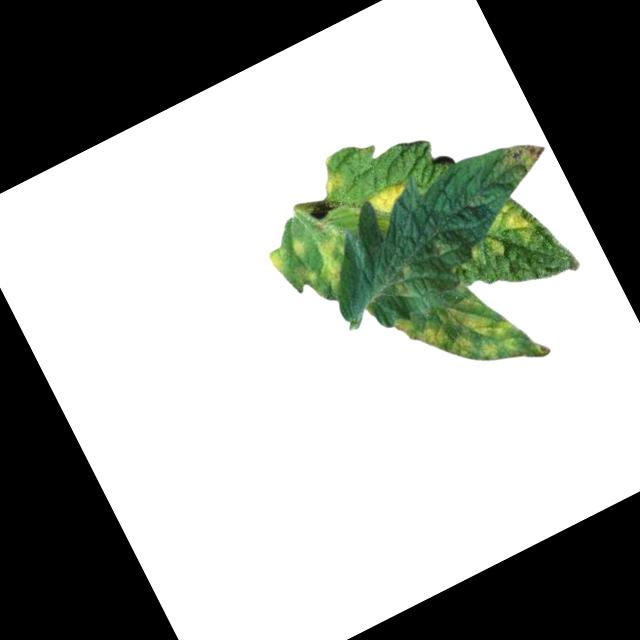Leaf_Mold: (389, 264, 552, 418), (288, 221, 358, 297), (492, 131, 553, 184), (361, 177, 415, 223), (491, 200, 536, 251), (319, 168, 350, 200), (266, 246, 293, 281)
